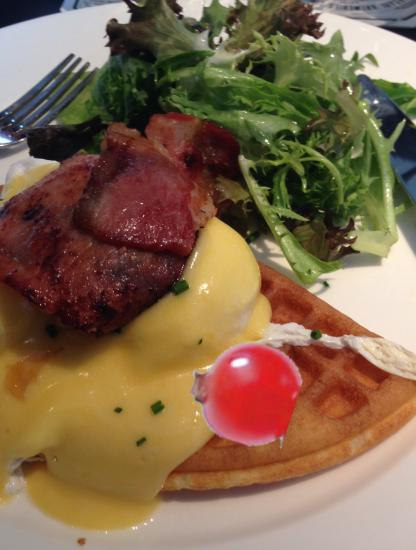Redcurrant: (190, 337, 298, 445)
